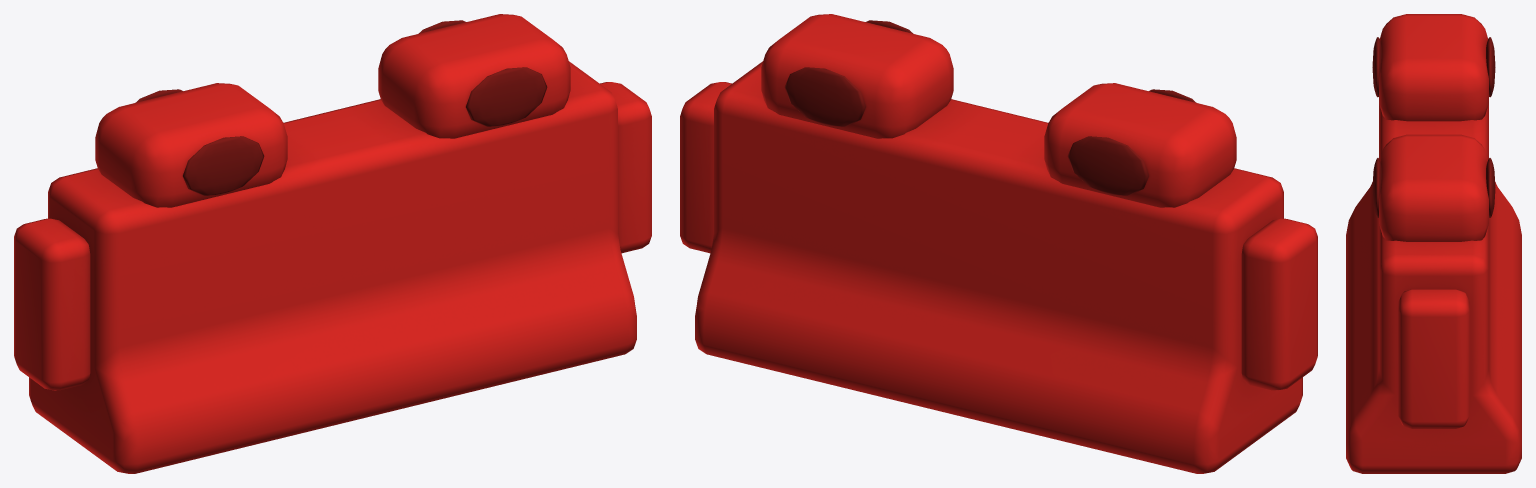
File: barrier.fbx
The picture shows the model from 3 angles, left to right: view 1: azimuth 30°, elevation 25°; view 2: azimuth 150°, elevation 25°; view 3: azimuth 270°, elevation 25°; orthographic projection. The views are drawn at different scales.
Parts seen in each view (by area): view 1: barrier; view 2: barrier; view 3: barrier.
Part boxes in pixels (left/top/right/bottom): barrier: left=14, top=14, right=651, bottom=473; barrier: left=680, top=14, right=1317, bottom=473; barrier: left=1346, top=14, right=1521, bottom=473.
Size of the model in its own units: 1120 by 545 by 320.
Materials: 1 (1 with a texture image).
